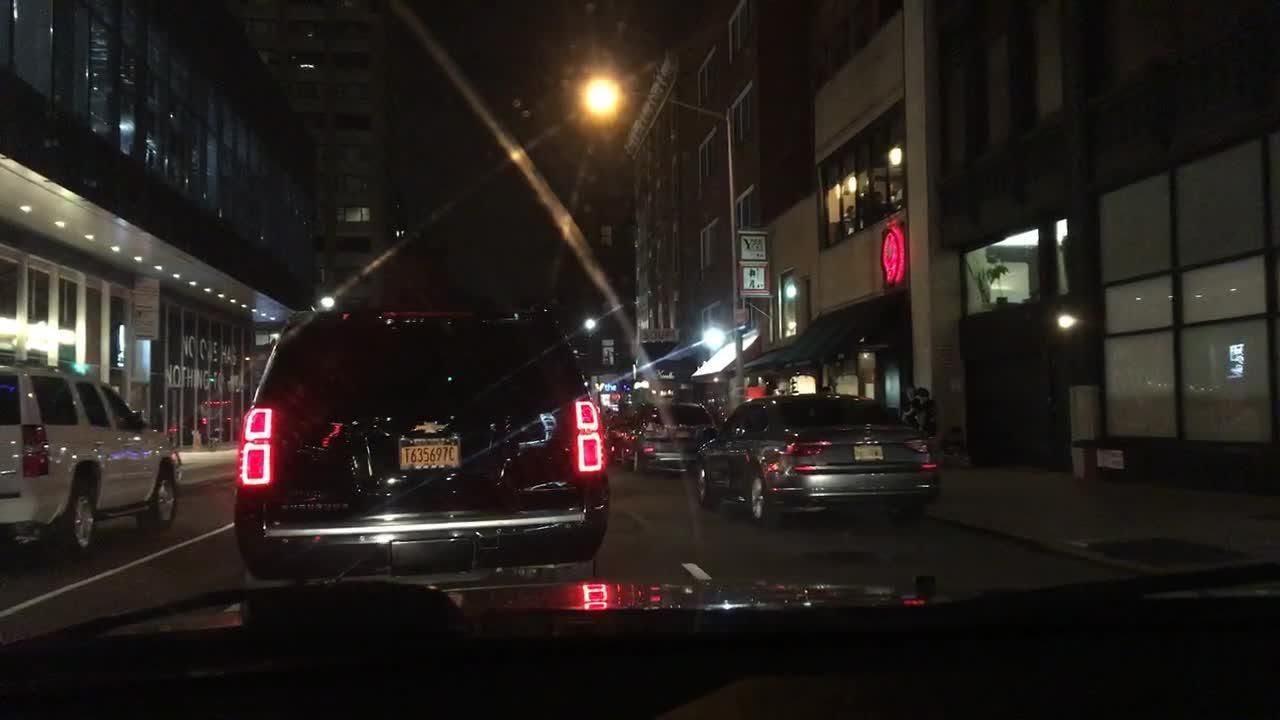chevrolet: (406, 412, 453, 441)
